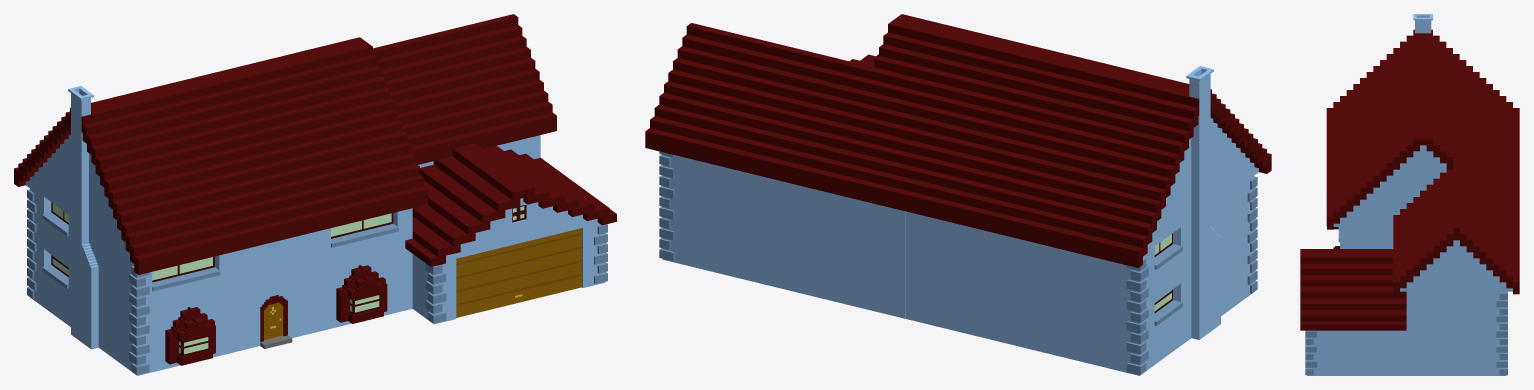
File: PlayerBase.fbx
The picture shows the model from 3 angles, left to right: view 1: azimuth 30°, elevation 25°; view 2: azimuth 150°, elevation 25°; view 3: azimuth 270°, elevation 25°; orthographic projection. The views are drawn at different scales.
Visible parts, largest first — view 1: map_75, map_76; view 2: map_75, map_76, map_77; view 3: map_76, map_75, map_77.
Boxes of the visible parts, bbox=[...] form: map_75: bbox=[14, 52, 366, 375]; map_76: bbox=[297, 14, 616, 324]; map_75: bbox=[896, 30, 1271, 375]; map_76: bbox=[653, 14, 968, 318]; map_77: bbox=[645, 118, 902, 208]; map_76: bbox=[1300, 115, 1509, 375]; map_75: bbox=[1326, 14, 1519, 248]; map_77: bbox=[1509, 188, 1519, 294].
Bounding box in the file's own units: 249 × 126 × 132.
Materials: 3 (3 with a texture image).
